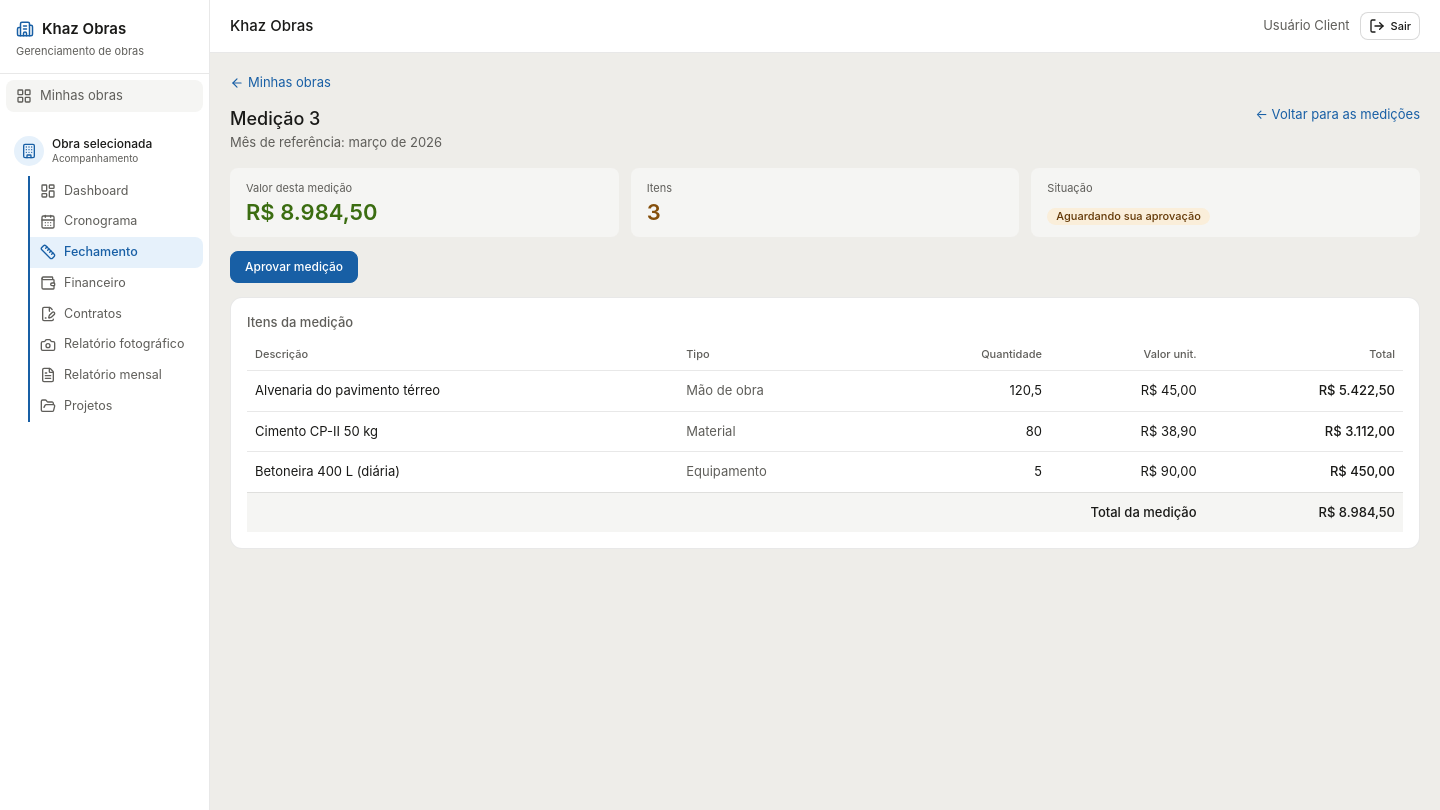
Test case: Fechamento - detalhe (cliente) › fluxo de aprovação › pede confirmação, aprova e passa a mostrar a medição como aprovada
This screenshot has width=1440, height=810.
Click the button "Aprovar medição". click: (294, 266)
box: top-left (230, 250), bottom-right (358, 282)
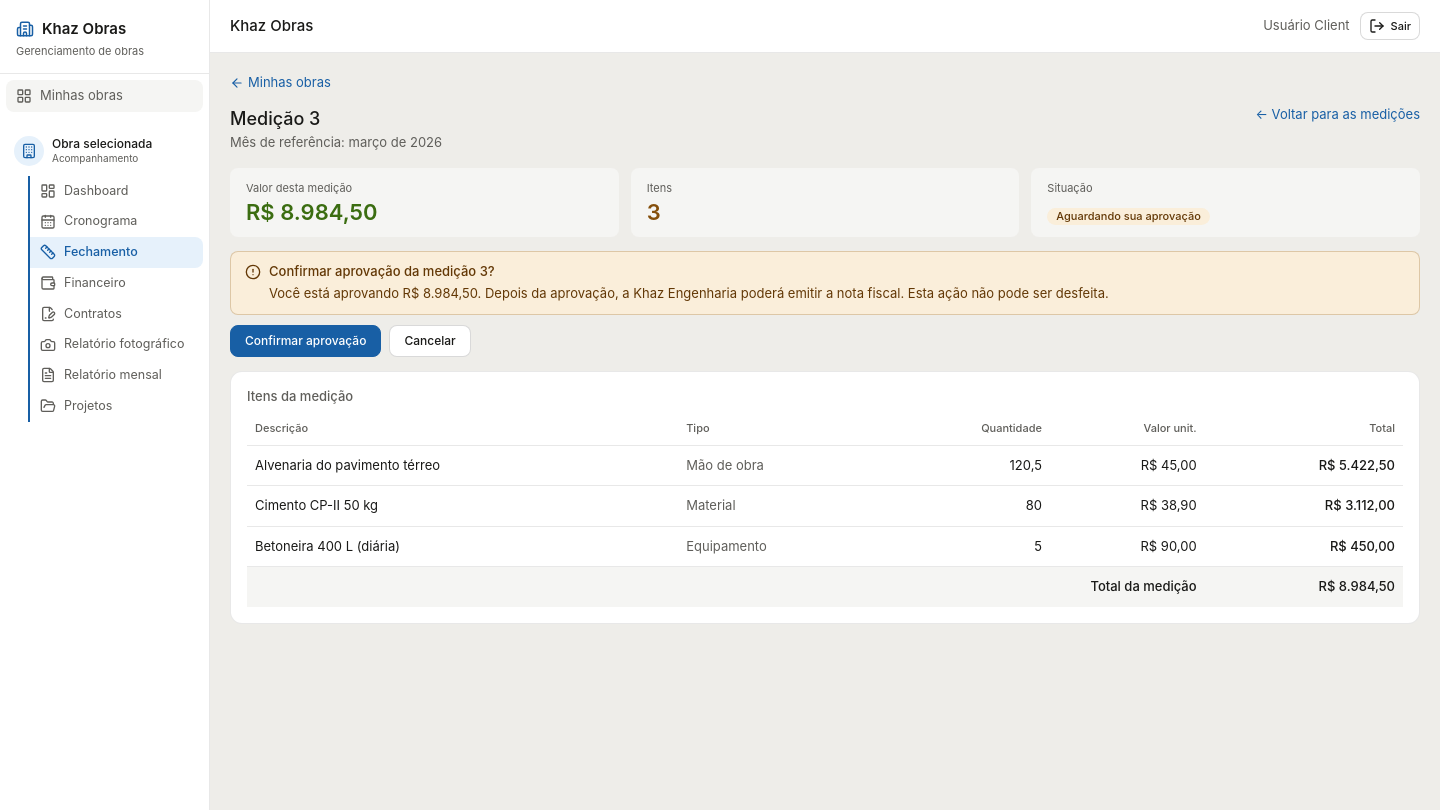
Expected: the text "Confirmar aprovação da medição 3?" is shown, top-left (269, 262), bottom-right (495, 278)
Expected: the text "Esta ação não pode ser desfeita" is shown, top-left (478, 285), bottom-right (1109, 301)
Click the button "Confirmar aprovação". click: (306, 341)
box: top-left (230, 325), bottom-right (381, 357)
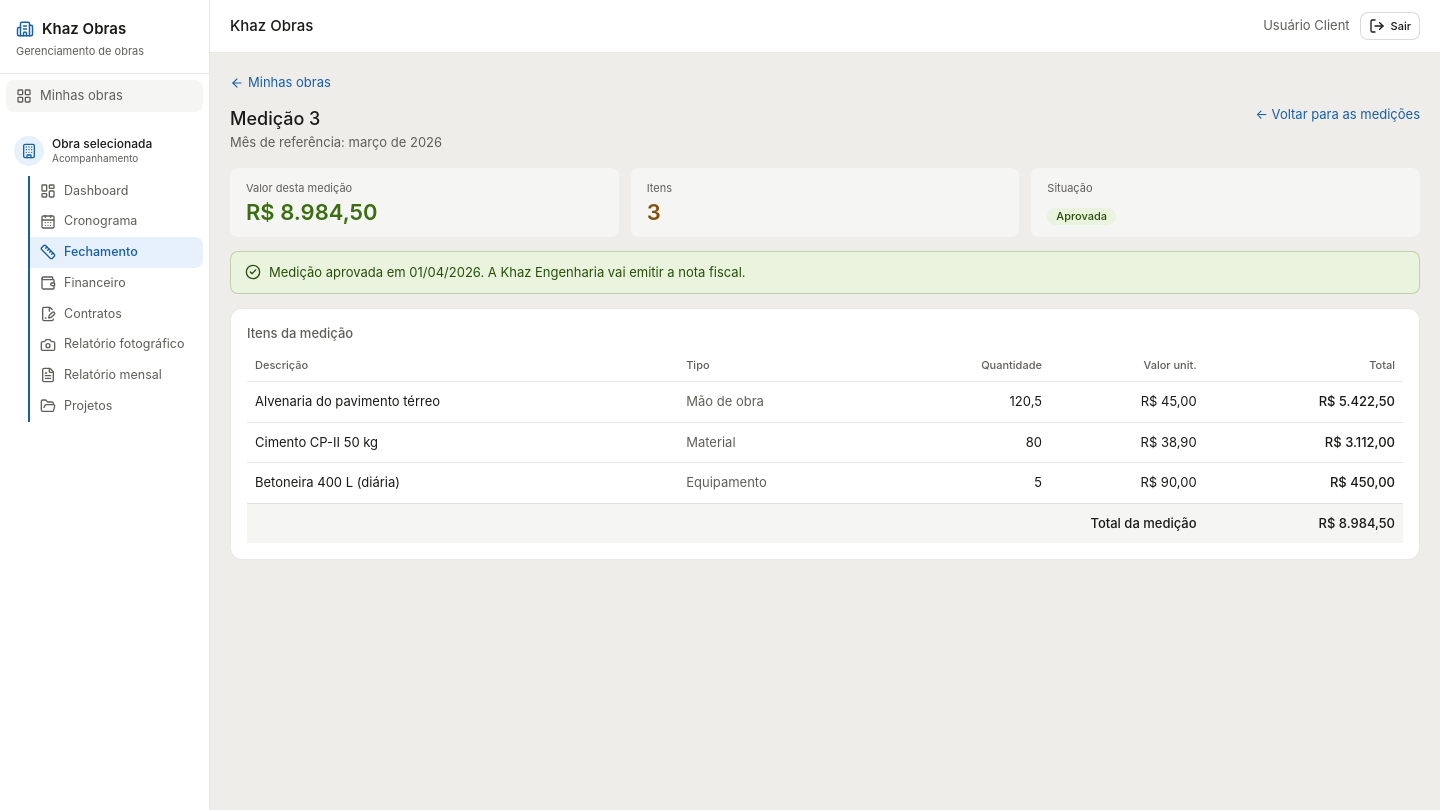
Expected: the button "Aprovar" is not shown
Expected: the text "nota fiscal" is shown, top-left (488, 264), bottom-right (746, 280)
Expected: the text "Medição aprovada em 01/04/2026" is shown, top-left (269, 264), bottom-right (488, 280)
